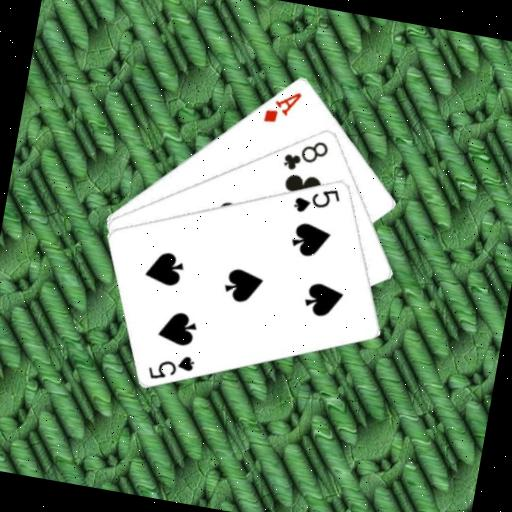5S: (143, 346, 198, 387), (290, 179, 344, 220)
8C: (278, 131, 331, 177)
AD: (259, 82, 304, 128)
